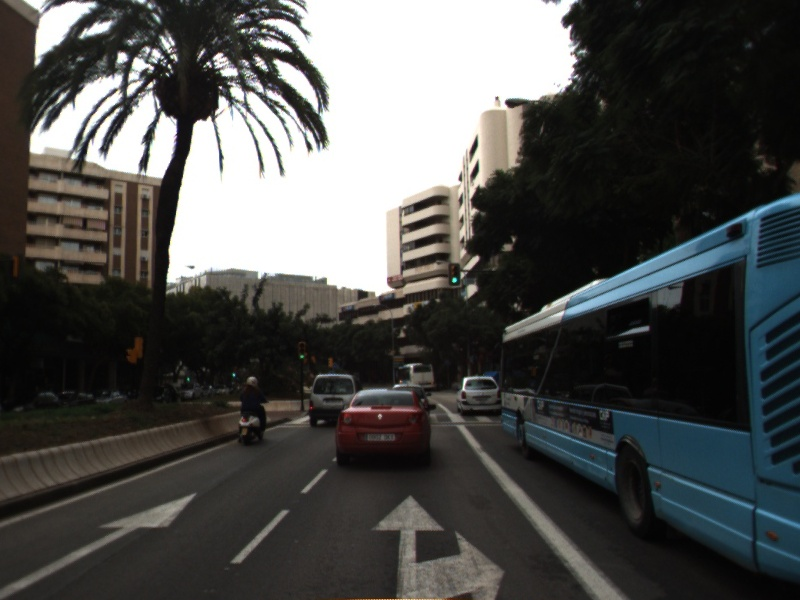STRAIGHT: (1, 487, 203, 600)
STRAIGHT_RIGHT: (367, 489, 511, 600)
